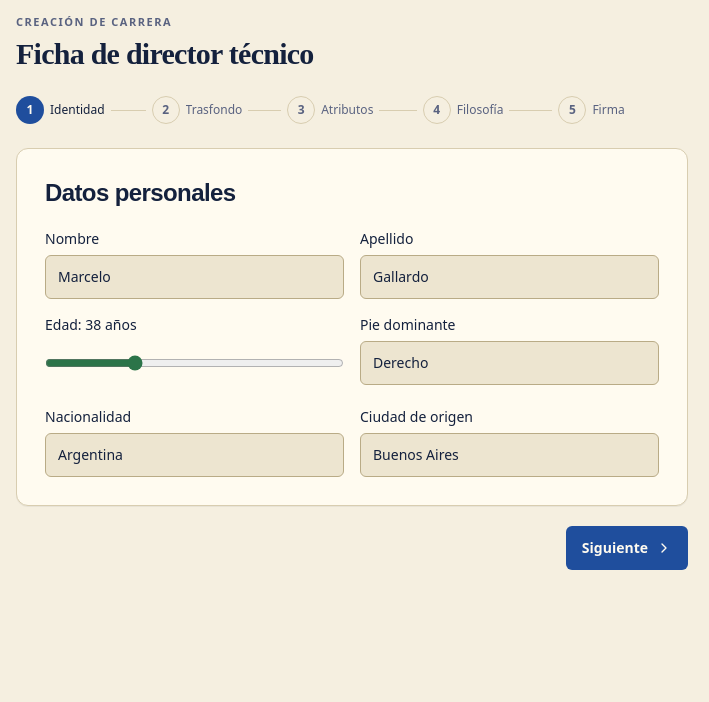
Test: asistente de creación del DT › recorre los pasos, reparte los 15 puntos y crea el DT
This screenshot has width=709, height=702.
Later steps or results of the test are not shown.
Expected: the field labelled "Nombre" holds "Marcelo", [45,255,344,299]
Click the button "Siguiente": (627, 548) [566,526,688,570]
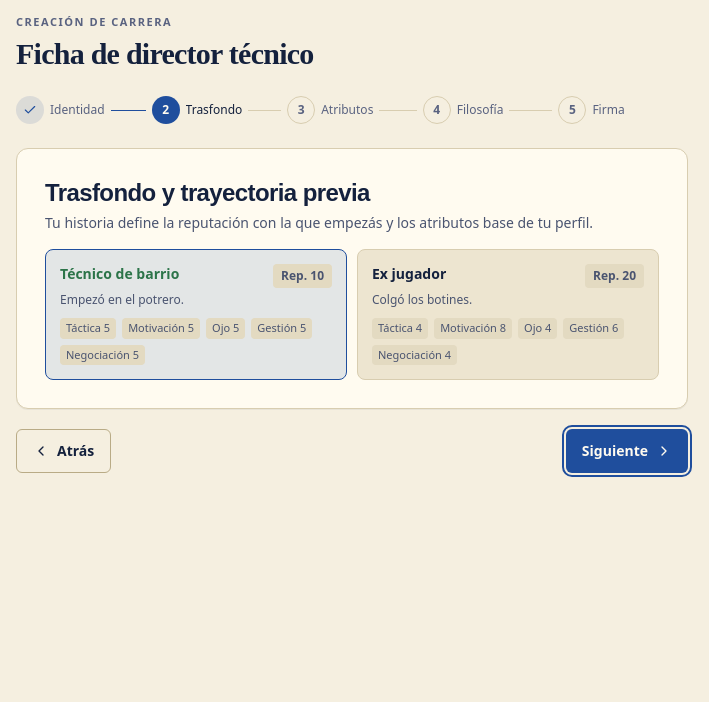
Click the radio button labelled "Ex jugador": (409, 274) [357,249,659,380]
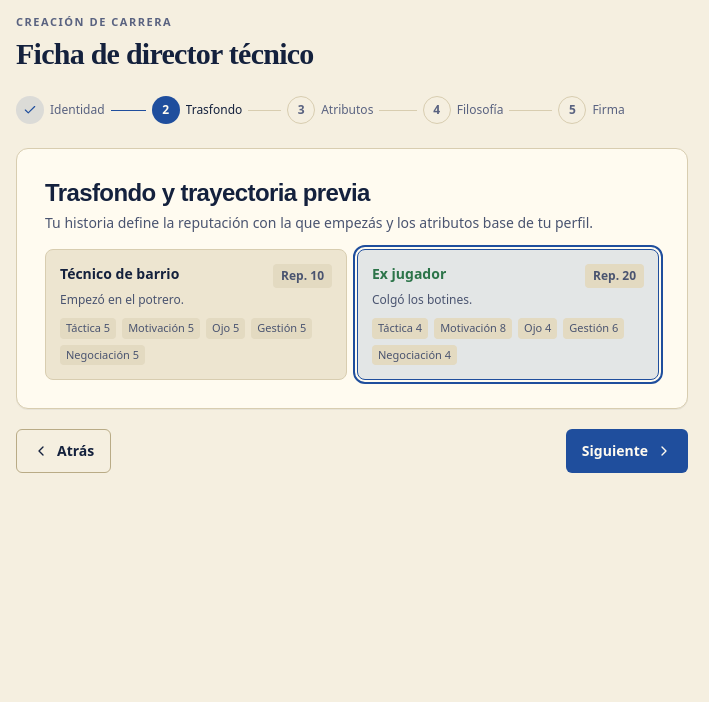
Click the button "Siguiente": (627, 451) [566,429,688,473]
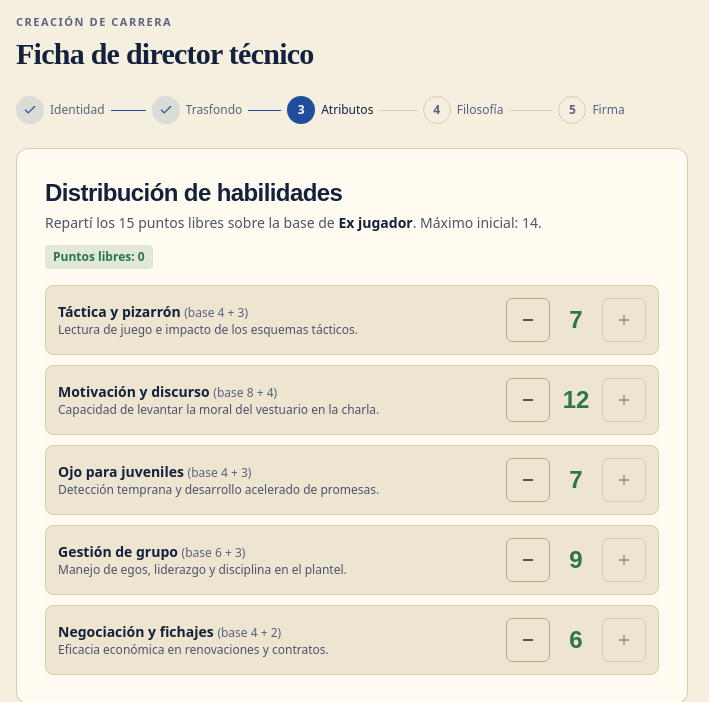
Now the message reads "Puntos libres: 0", box [45,245,153,269]
Click the button named "Restar un punto a Táctica y pizarrón": (528, 320) [506,298,550,342]
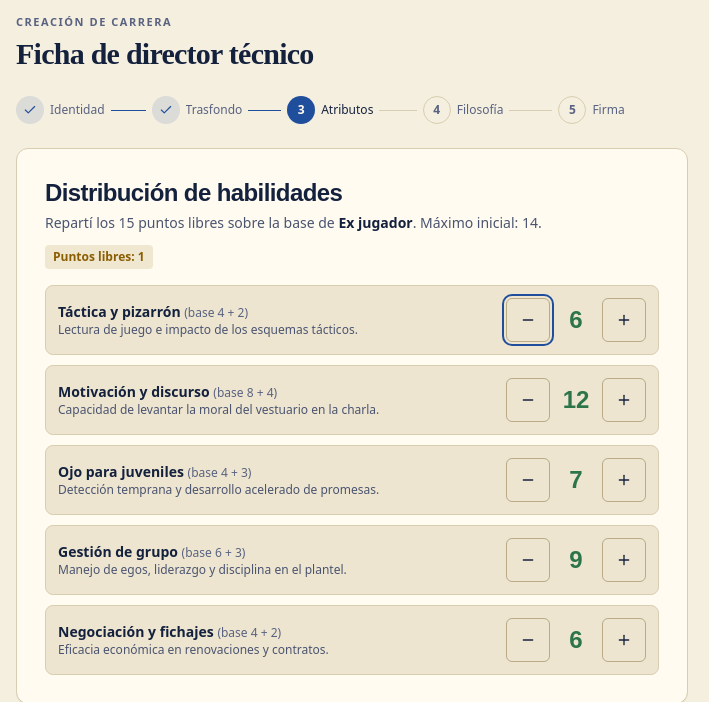
Now the message reads "Puntos libres: 1", box [45,245,153,269]
